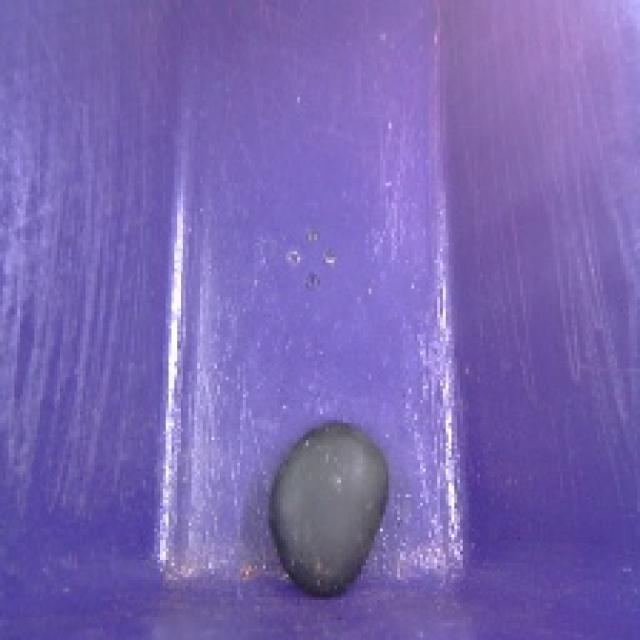cobbles: (262, 411, 400, 601)
